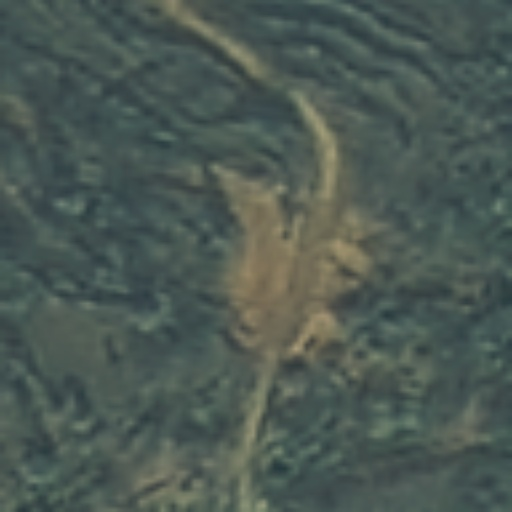landslide: (209, 162, 297, 336)
